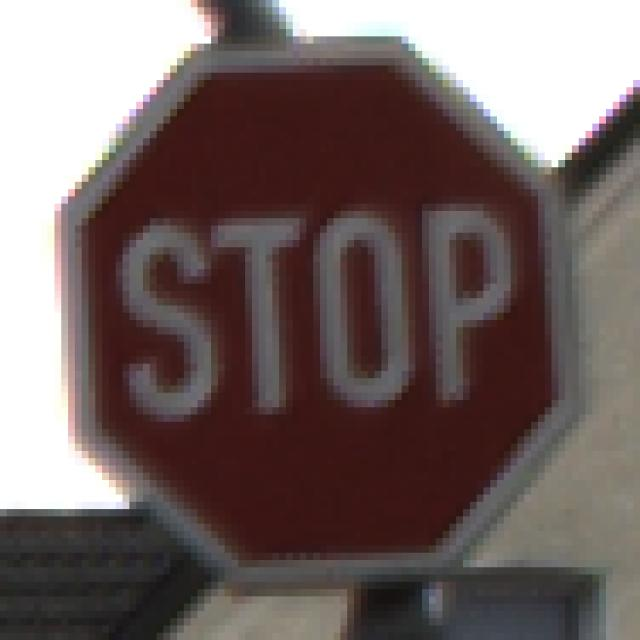STOP: (62, 52, 587, 590)
